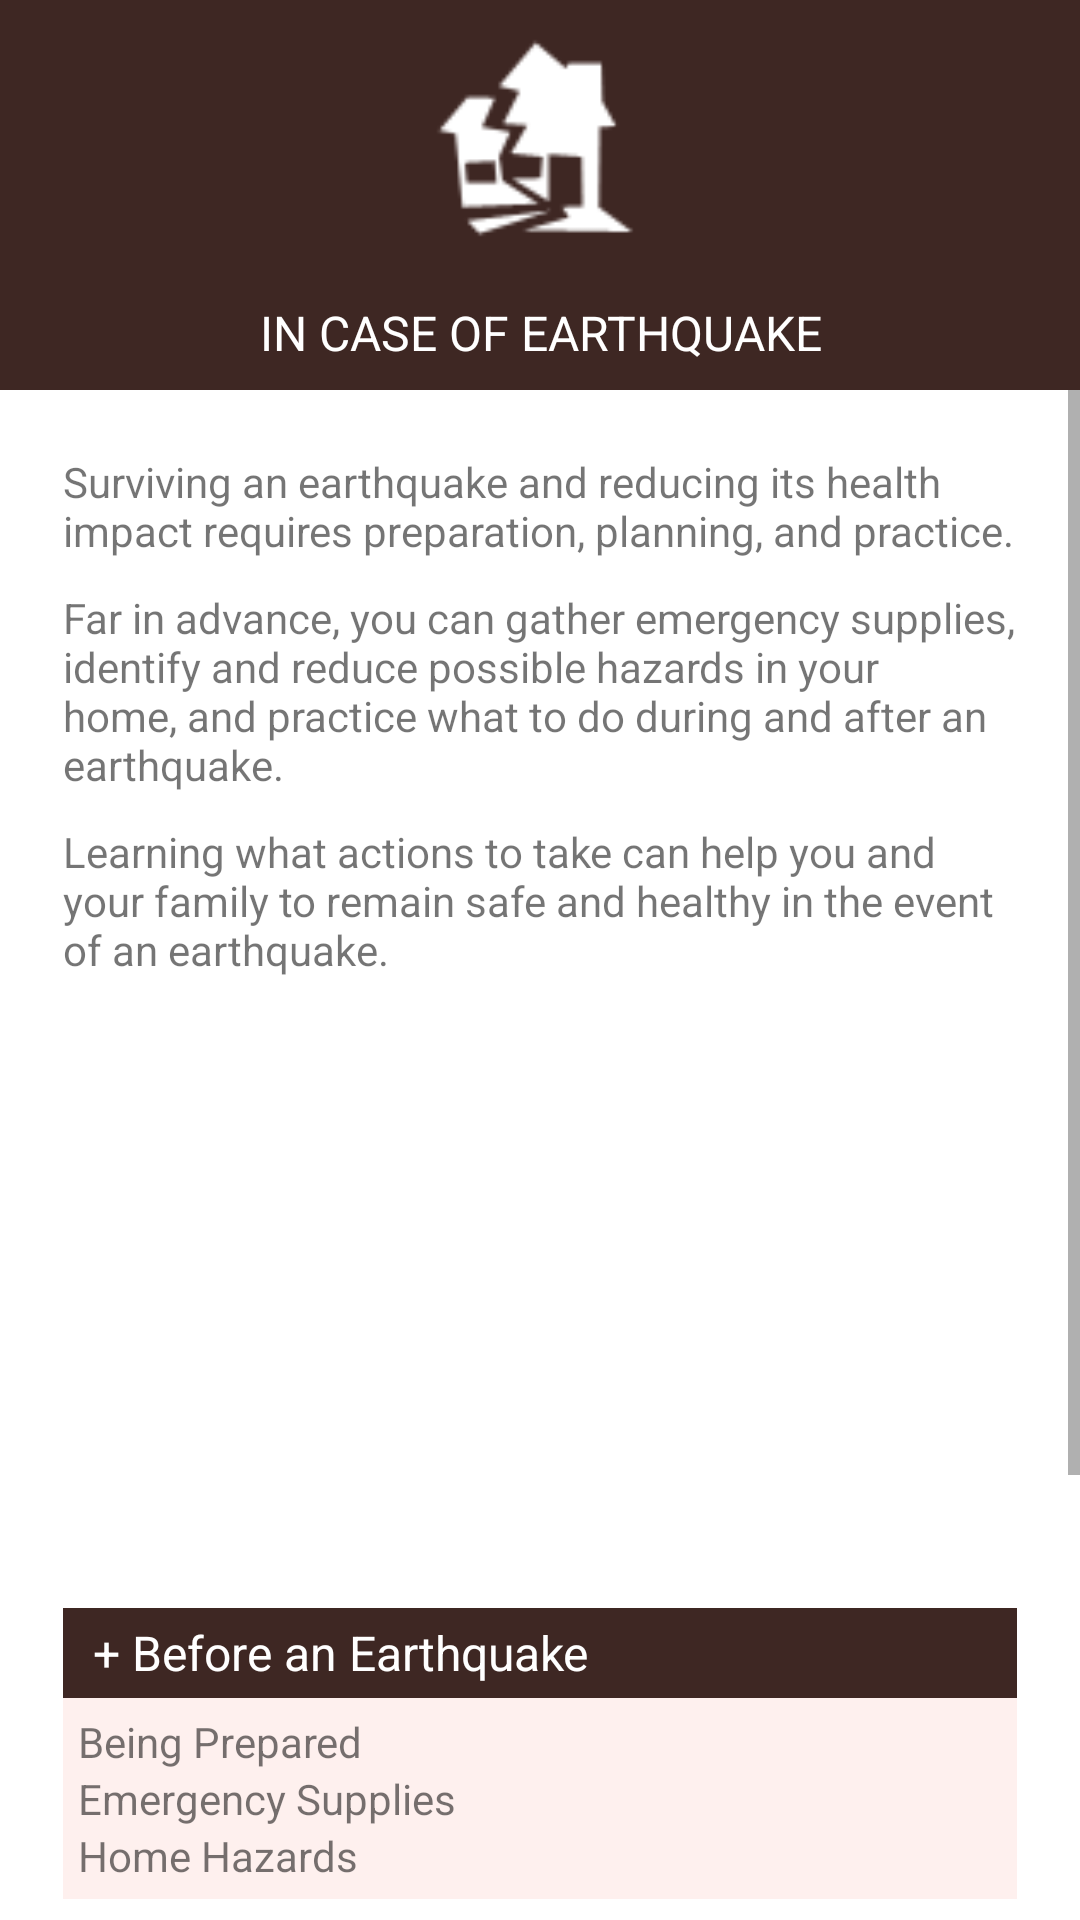

Icons on this 1080x1920 Android screen, each with the point to tap as (x=x, y=y):
earthquake square: (x=536, y=138)
